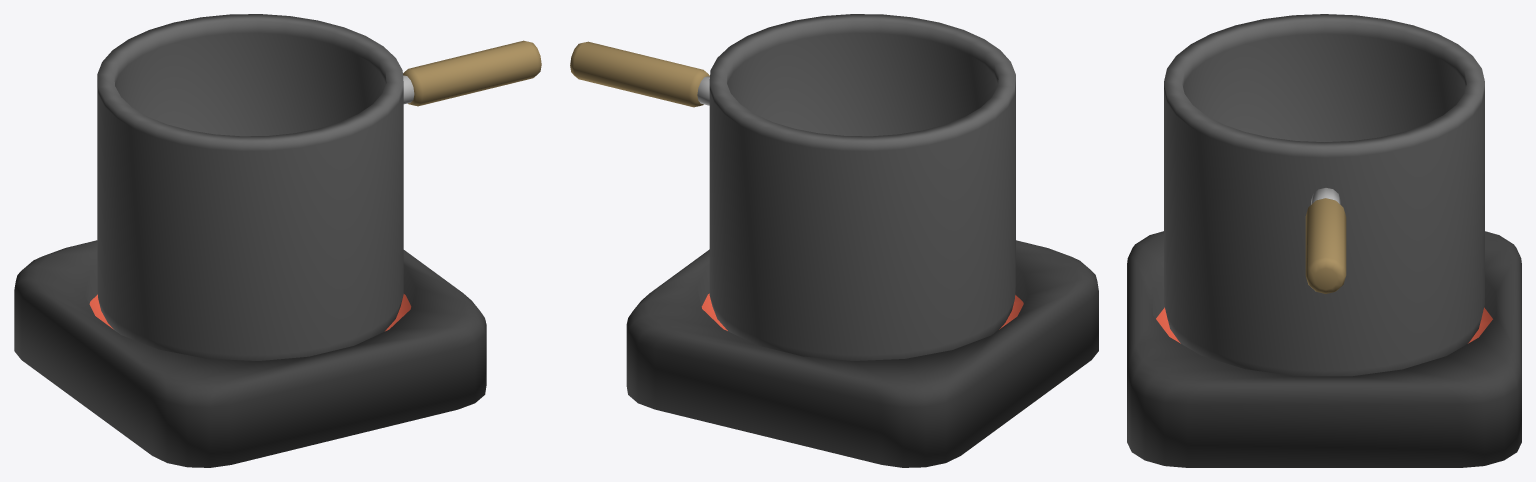
Rendered from Gr_PopcornMaker.fbx.
The picture shows the model from 3 angles, left to right: view 1: azimuth 30°, elevation 25°; view 2: azimuth 150°, elevation 25°; view 3: azimuth 270°, elevation 25°; orthographic projection. The views are drawn at different scales.
Parts seen in each view (by area): view 1: Cylinder.009, Cube.035; view 2: Cylinder.009, Cube.035; view 3: Cylinder.009, Cube.035.
Part boxes in pixels (<box>): Cylinder.009: <box>97,14,541,360</box>; Cube.035: <box>14,240,486,467</box>; Cylinder.009: <box>570,14,1015,360</box>; Cube.035: <box>626,240,1098,467</box>; Cylinder.009: <box>1164,14,1484,376</box>; Cube.035: <box>1127,231,1521,467</box>.
Size of the model in its own units: 1676 by 1033 by 1220.
